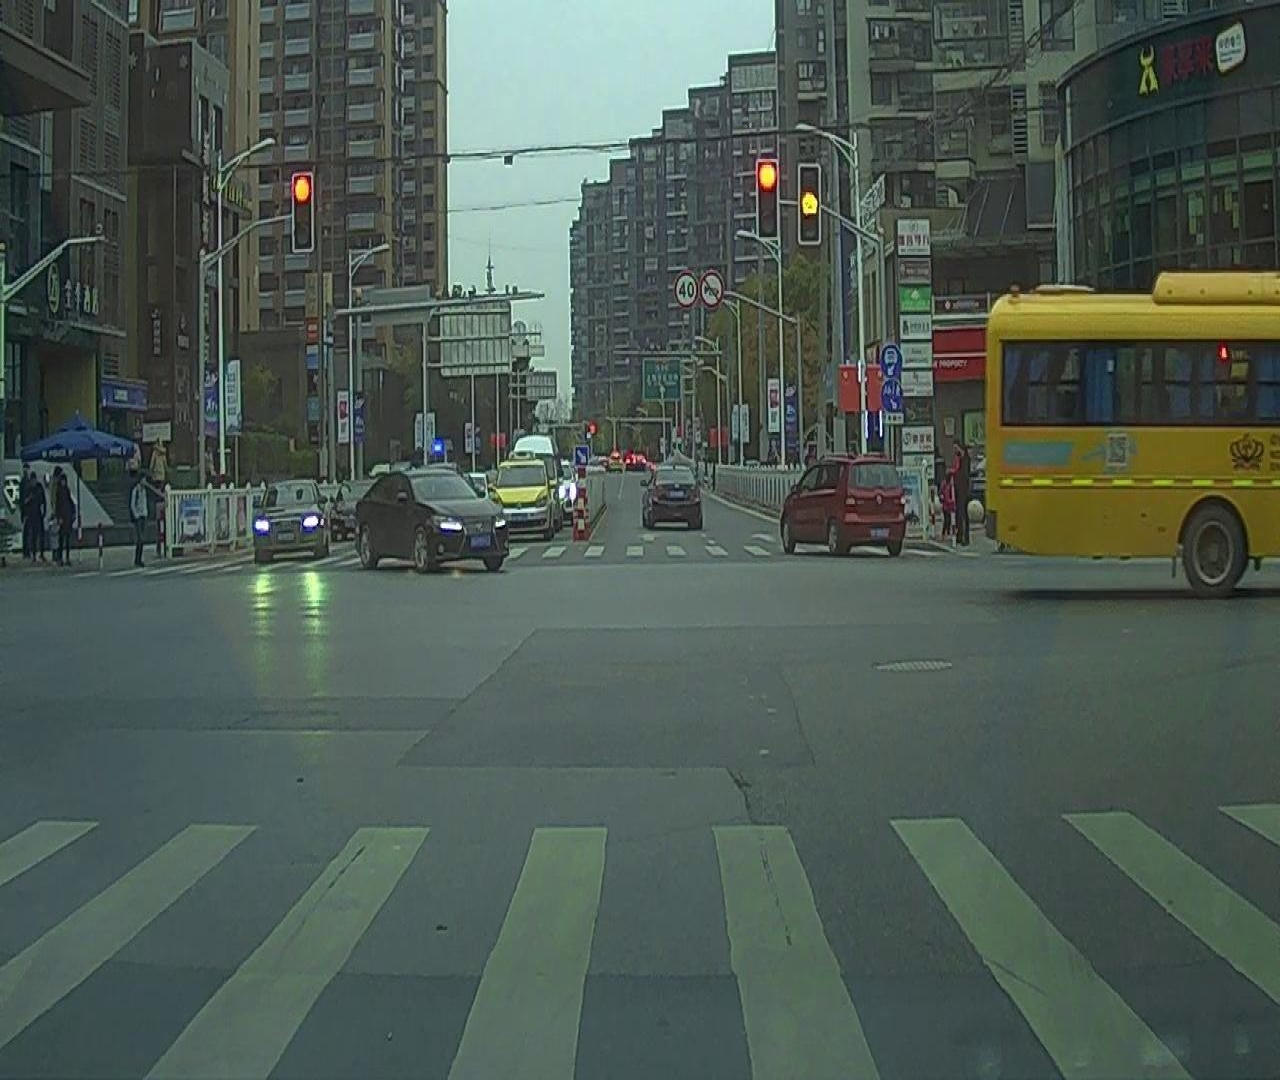red: (756, 157, 778, 238), (292, 168, 313, 246)
yellow: (799, 165, 822, 247)
